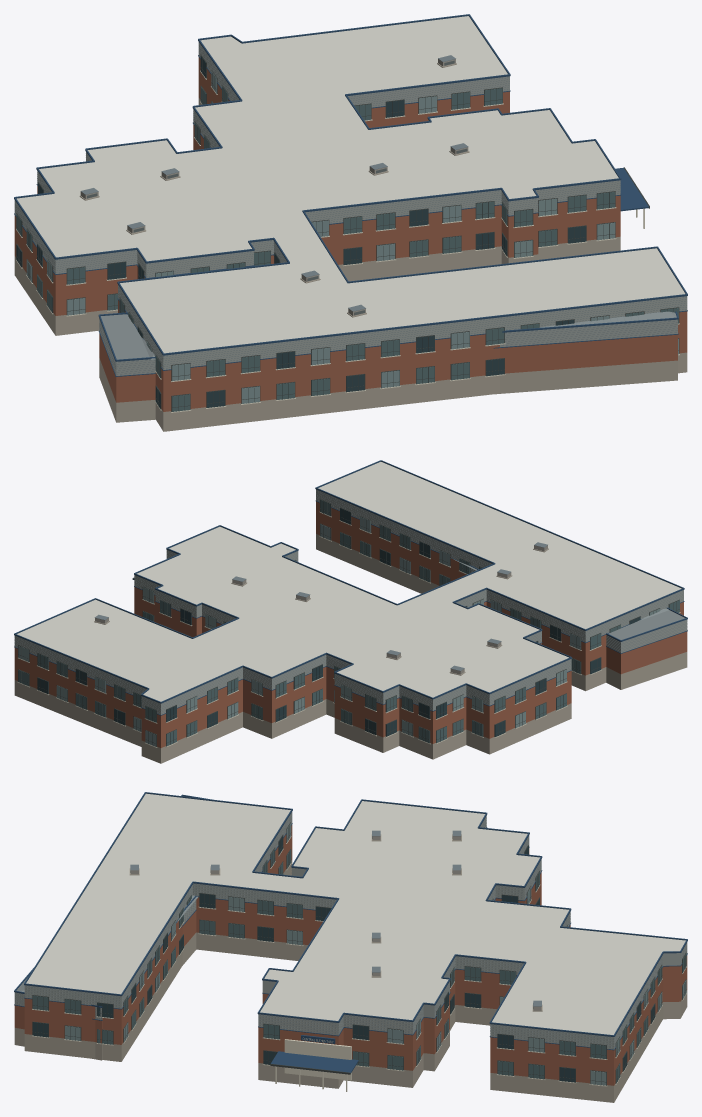
Rendered from central-elementary.glb.
The picture shows the model from 3 angles, top to bottom: view 1: azimuth 30°, elevation 25°; view 2: azimuth 150°, elevation 25°; view 3: azimuth 270°, elevation 25°; orthographic projection. The views are drawn at different scales.
Parts seen in each view (by area): view 1: 856515420 | Roof, 856515420 | Shell and foundation, 856515420 | Facades, South gym wing | Roof; view 2: 856515420 | Roof, 856515420 | Shell and foundation, 856515420 | Facades, South gym wing | Roof; view 3: 856515420 | Roof, 856515420 | Shell and foundation, 856515420 | Facades.
Boxes of the visible parts, box(x1,y1,x2,y2) form: 856515420 | Roof: box(14, 16, 687, 431); 856515420 | Shell and foundation: box(14, 42, 687, 411); 856515420 | Facades: box(14, 14, 687, 412); South gym wing | Roof: box(101, 311, 676, 359); 856515420 | Roof: box(14, 462, 687, 763); 856515420 | Shell and foundation: box(14, 489, 687, 747); 856515420 | Facades: box(14, 460, 687, 747); South gym wing | Roof: box(454, 559, 685, 639); 856515420 | Roof: box(14, 793, 687, 1102); 856515420 | Shell and foundation: box(14, 812, 687, 1085); 856515420 | Facades: box(14, 792, 687, 1091).
Size of the model in its own units: 90.07 by 11.77 by 100.
